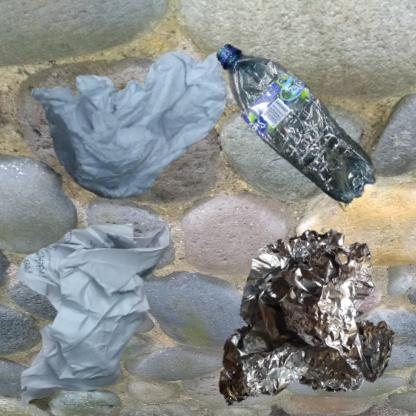aluminio: (213, 213, 416, 416)
botella: (213, 10, 414, 272)
papel: (10, 10, 249, 231), (10, 213, 171, 412)
